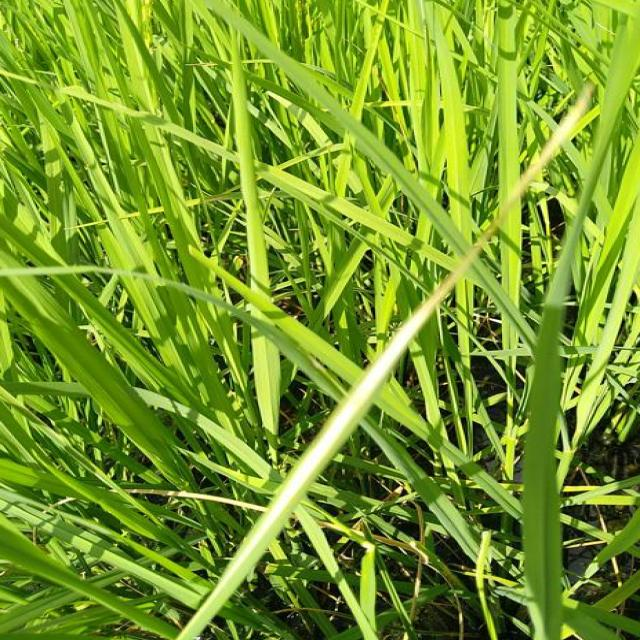Leaf Blight: (174, 90, 593, 640)
